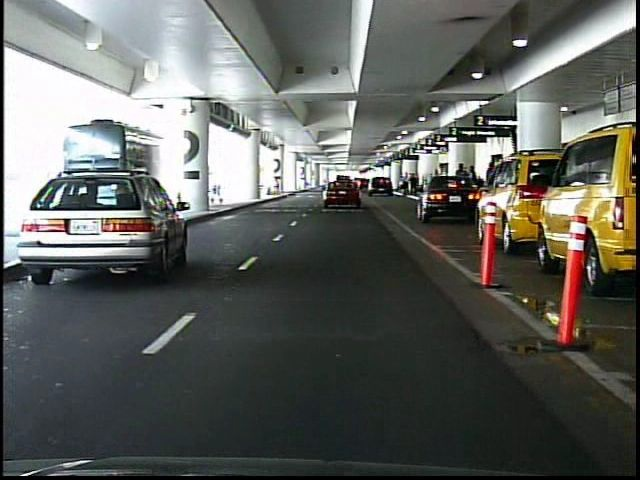person: (453, 162, 471, 205), (466, 165, 480, 206), (401, 172, 410, 196), (409, 173, 417, 196)
